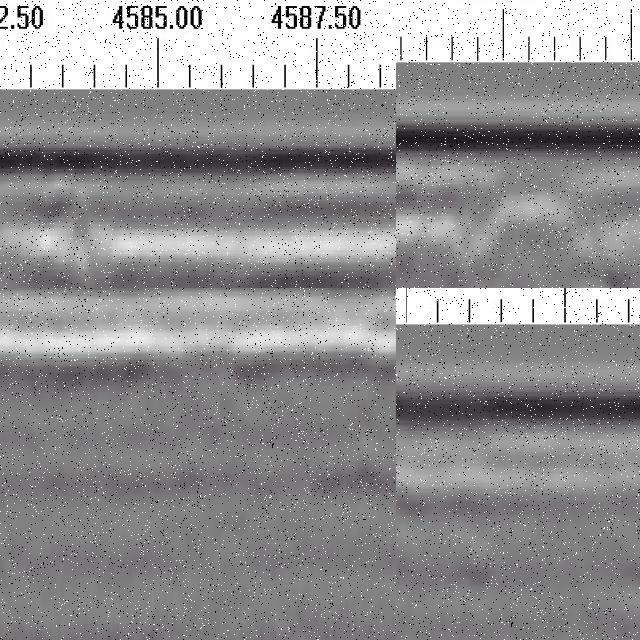crack: (53, 175, 100, 289)
